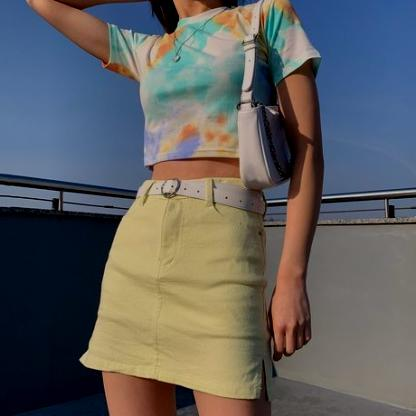jacket: (82, 171, 276, 402), (99, 0, 319, 163)
